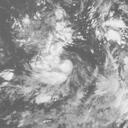cyclone: (31, 49, 74, 85)
